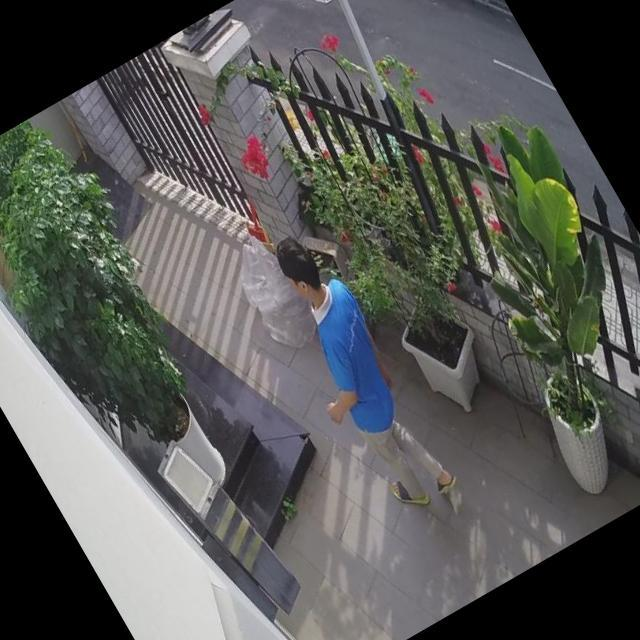person: (243, 224, 466, 532)
